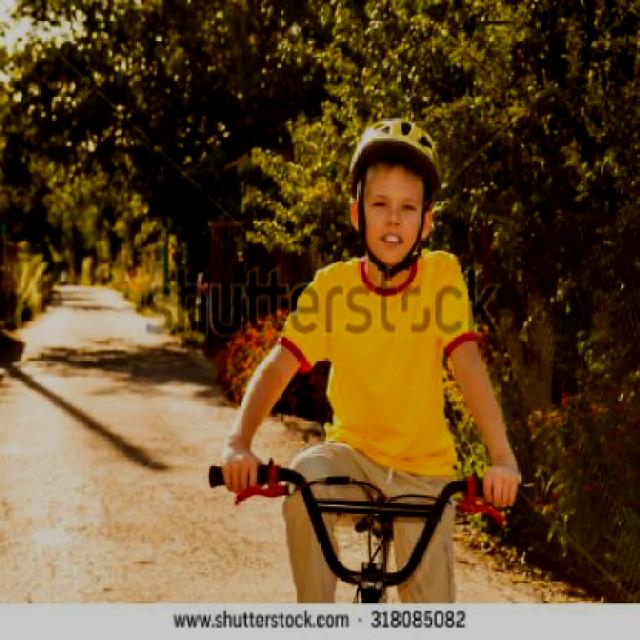With Helmet: (345, 112, 443, 279)
